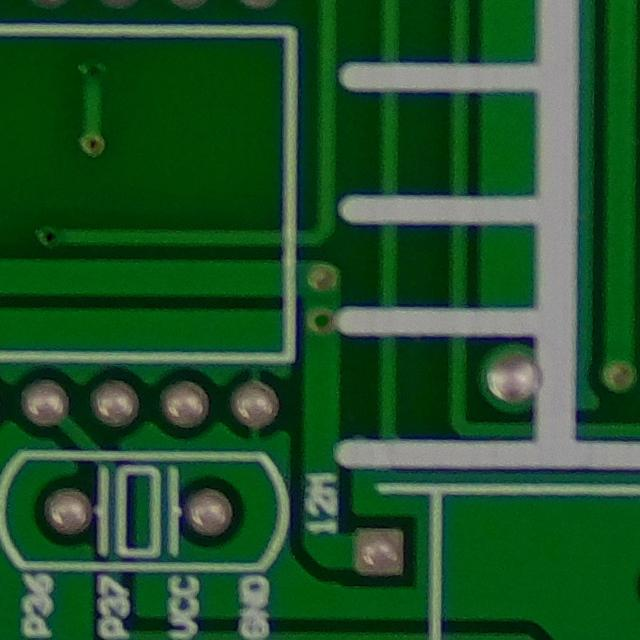missing_hole: (303, 301, 342, 340)
